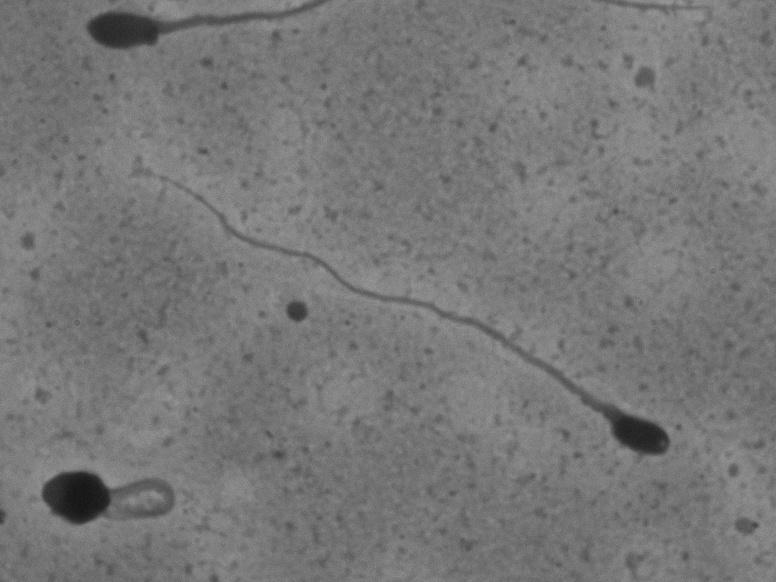Abnormal: (136, 161, 687, 465), (18, 445, 224, 541)
